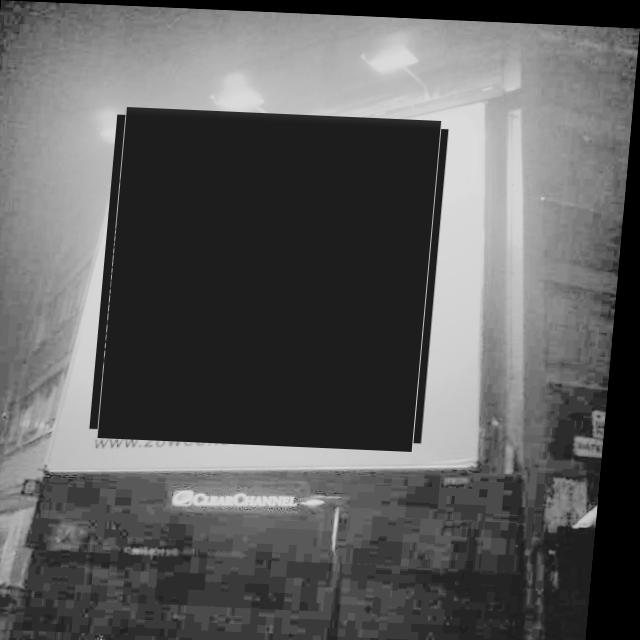qr_code: (100, 109, 447, 444)
